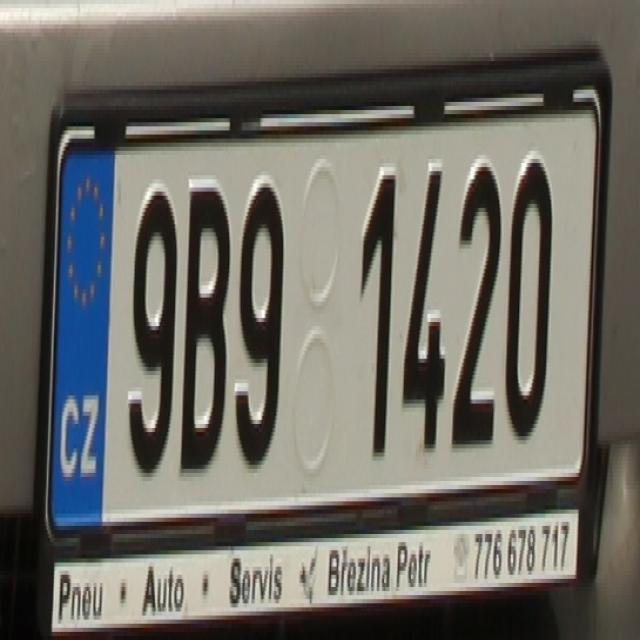0: (500, 138, 552, 448)
1: (357, 163, 396, 465)
2: (451, 143, 498, 448)
4: (399, 155, 446, 461)
9: (233, 163, 284, 465), (127, 175, 175, 469)
B: (176, 171, 228, 469)
